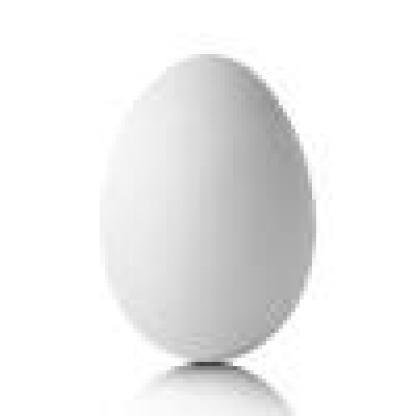egg: (94, 52, 318, 364)
